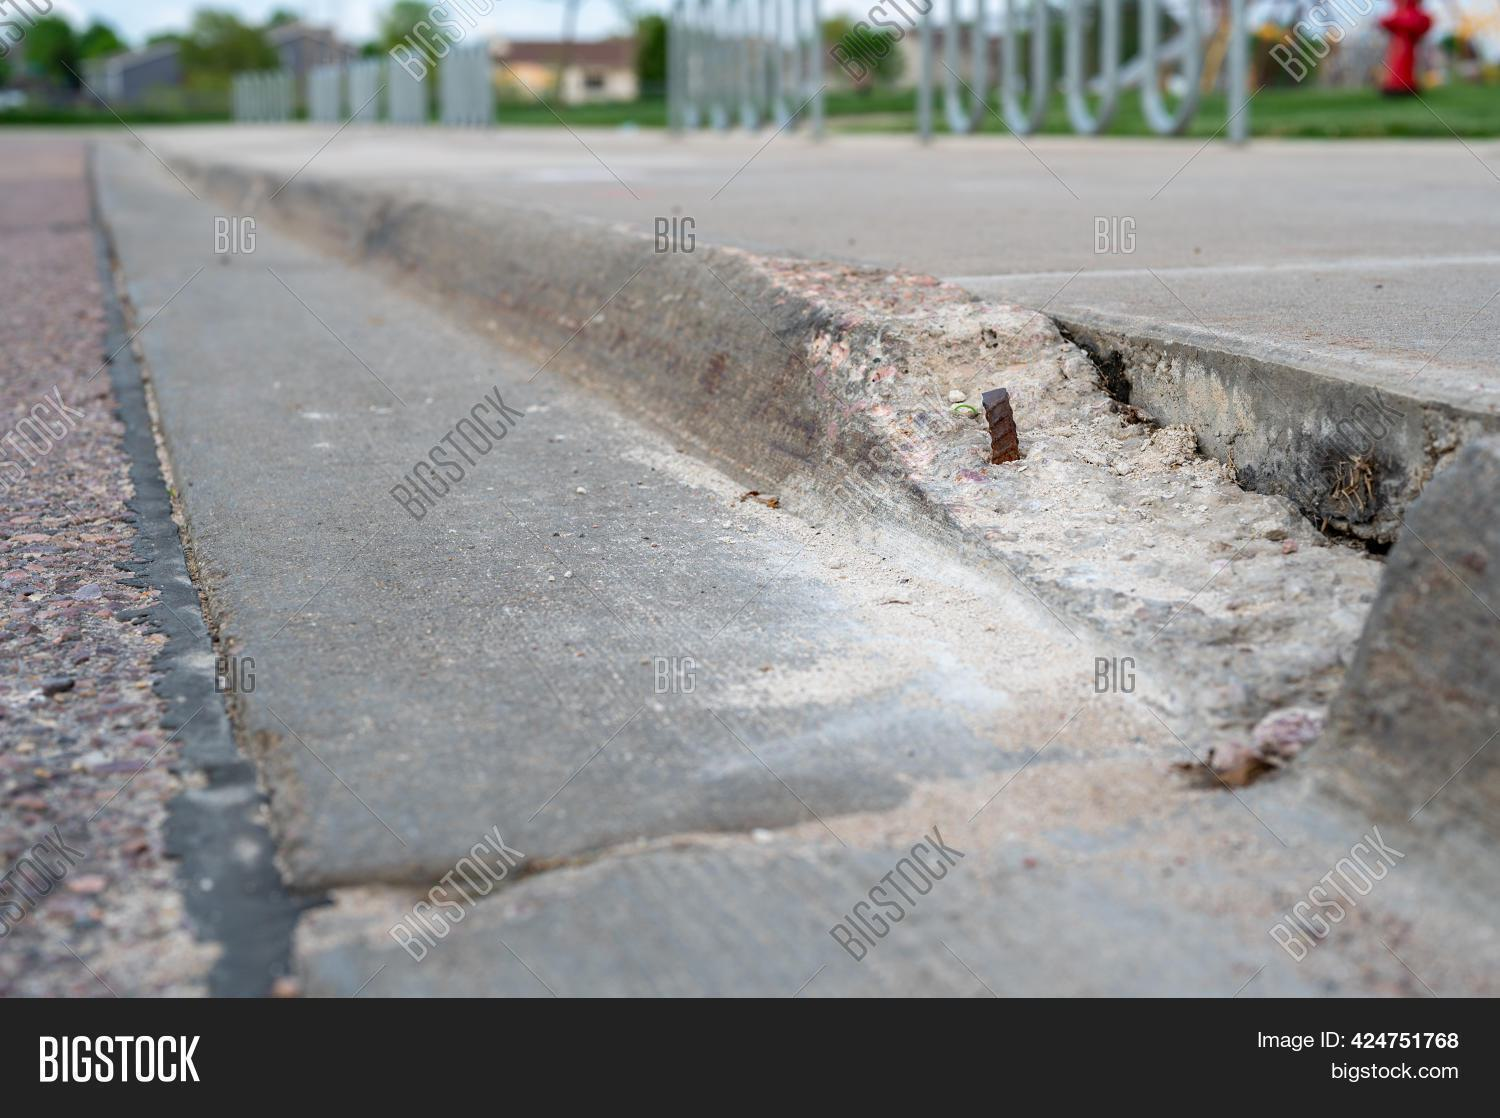Exposed reinforcement: (981, 388, 1021, 465)
Spalling: (728, 245, 1500, 750)
